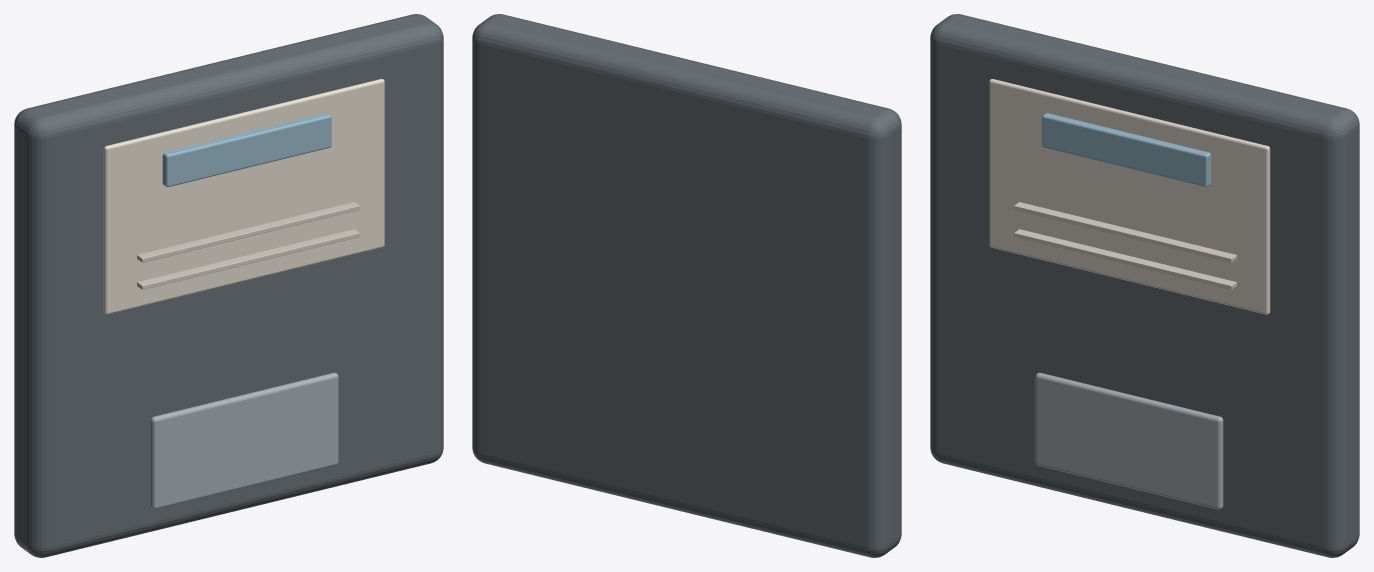
File: floppy-disk.glb
The picture shows the model from 3 angles, left to right: view 1: azimuth 30°, elevation 25°; view 2: azimuth 150°, elevation 25°; view 3: azimuth 330°, elevation 25°; orthographic projection.
Parts seen in each view (by area): view 1: graphite_0, cream_1, steel_2, blue_3, sand_4; view 2: graphite_0; view 3: graphite_0, cream_1, steel_2, blue_3, sand_4.
Boxes of the visible parts, left/top/right/bottom form: graphite_0: left=14, top=14, right=443, bottom=557; cream_1: left=103, top=79, right=384, bottom=314; steel_2: left=150, top=372, right=338, bottom=509; blue_3: left=162, top=113, right=331, bottom=187; sand_4: left=137, top=202, right=359, bottom=289; graphite_0: left=472, top=14, right=901, bottom=557; graphite_0: left=930, top=14, right=1359, bottom=557; cream_1: left=989, top=79, right=1270, bottom=314; steel_2: left=1035, top=372, right=1223, bottom=509; blue_3: left=1042, top=113, right=1211, bottom=187; sand_4: left=1014, top=202, right=1236, bottom=289.
Size of the model in its own units: 0.8 by 0.81 by 0.119.
